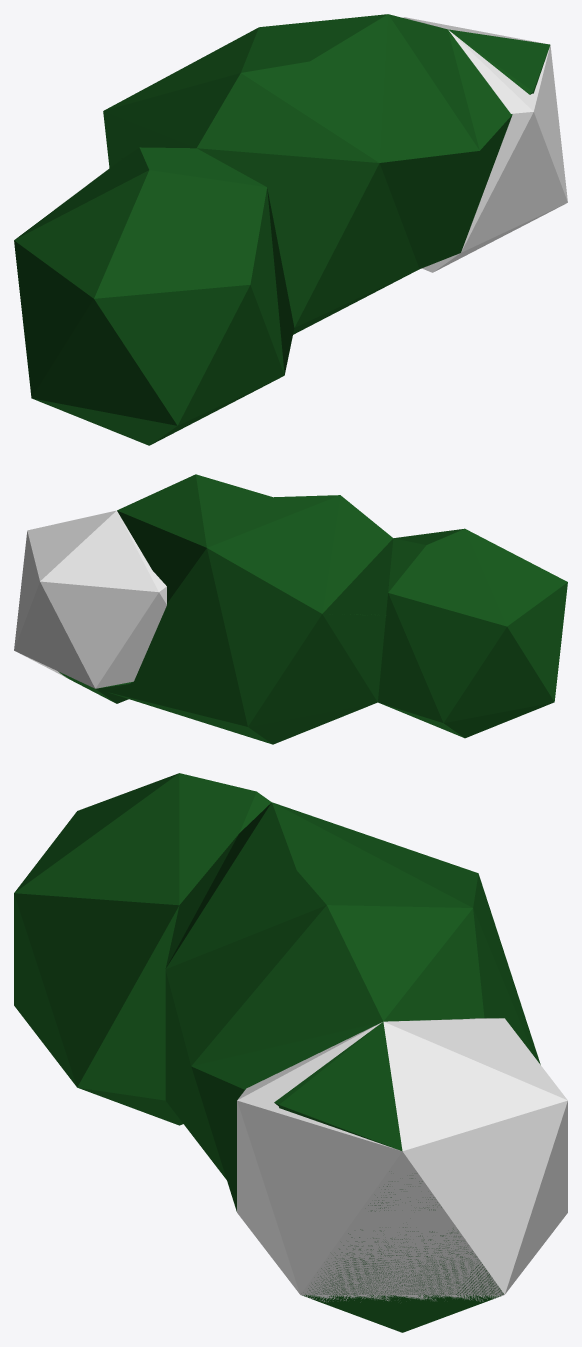
Rendered from bush1.fbx.
The picture shows the model from 3 angles, top to bottom: view 1: azimuth 30°, elevation 25°; view 2: azimuth 150°, elevation 25°; view 3: azimuth 270°, elevation 25°; orthographic projection. The views are drawn at different scales.
Visible parts, largest first — view 1: Icosphere.001, Icosphere; view 2: Icosphere.001, Icosphere; view 3: Icosphere.001, Icosphere.
Part boxes in pixels (x1,y1,x2,y2): Icosphere.001: (14, 14, 550, 445); Icosphere: (403, 17, 567, 272); Icosphere.001: (58, 474, 567, 744); Icosphere: (14, 510, 166, 688); Icosphere.001: (14, 773, 540, 1332); Icosphere: (237, 1018, 567, 1302).
Size of the model in its own units: 898 by 451 by 556.
